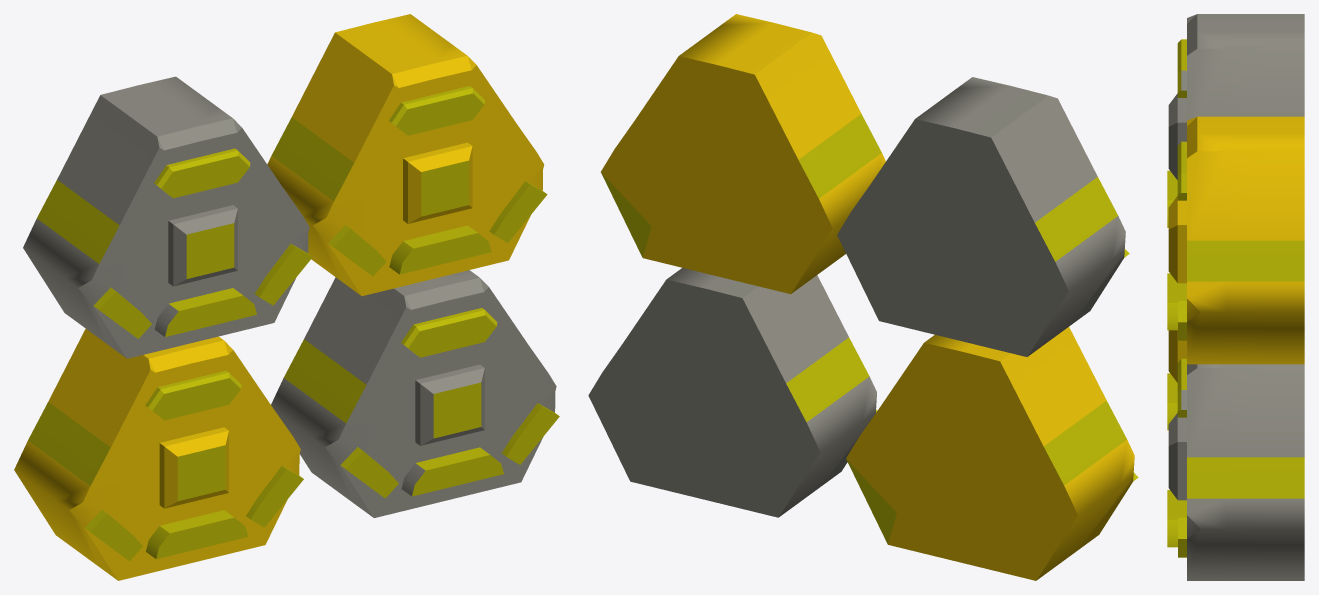
File: WarningLamp.fbx
3 views of the same model, side by side, from view 1: azimuth 30°, elevation 25°; view 2: azimuth 150°, elevation 25°; view 3: azimuth 270°, elevation 25° (orthographic). The views are drawn at different scales.
Parts seen in each view (by area): view 1: raito, raito3, raito5, raito4; view 2: raito, raito3, raito5, raito4; view 3: raito3, raito4, raito, raito5.
Boxes of the visible parts, x1,y1,x2,y2 form: raito: [23, 76, 312, 358]; raito3: [267, 14, 547, 296]; raito5: [14, 329, 303, 580]; raito4: [271, 270, 559, 517]; raito: [837, 77, 1129, 356]; raito3: [601, 14, 885, 294]; raito5: [846, 327, 1138, 580]; raito4: [588, 268, 877, 517]; raito3: [1167, 116, 1304, 364]; raito4: [1167, 358, 1304, 580]; raito: [1167, 14, 1304, 227]; raito5: [1167, 330, 1186, 430].
Size of what is drawn, in the model's own units: 2.51 by 2.14 by 0.6519.
